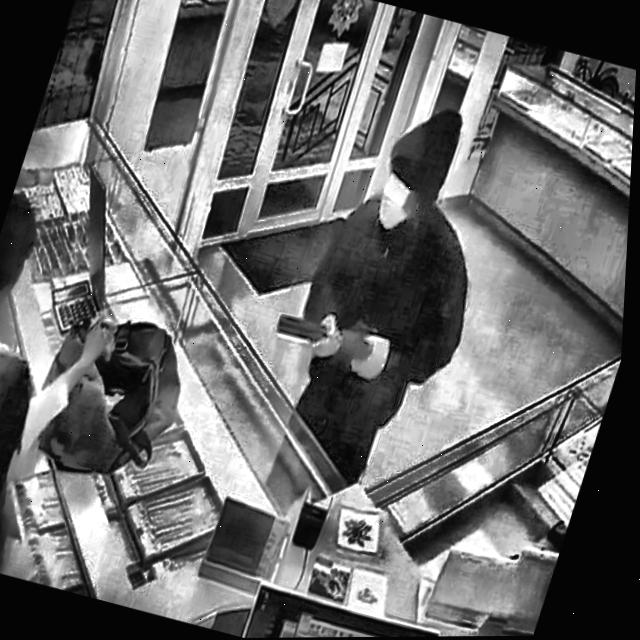pistol: (242, 271, 417, 390)
robbery: (0, 0, 546, 640)
